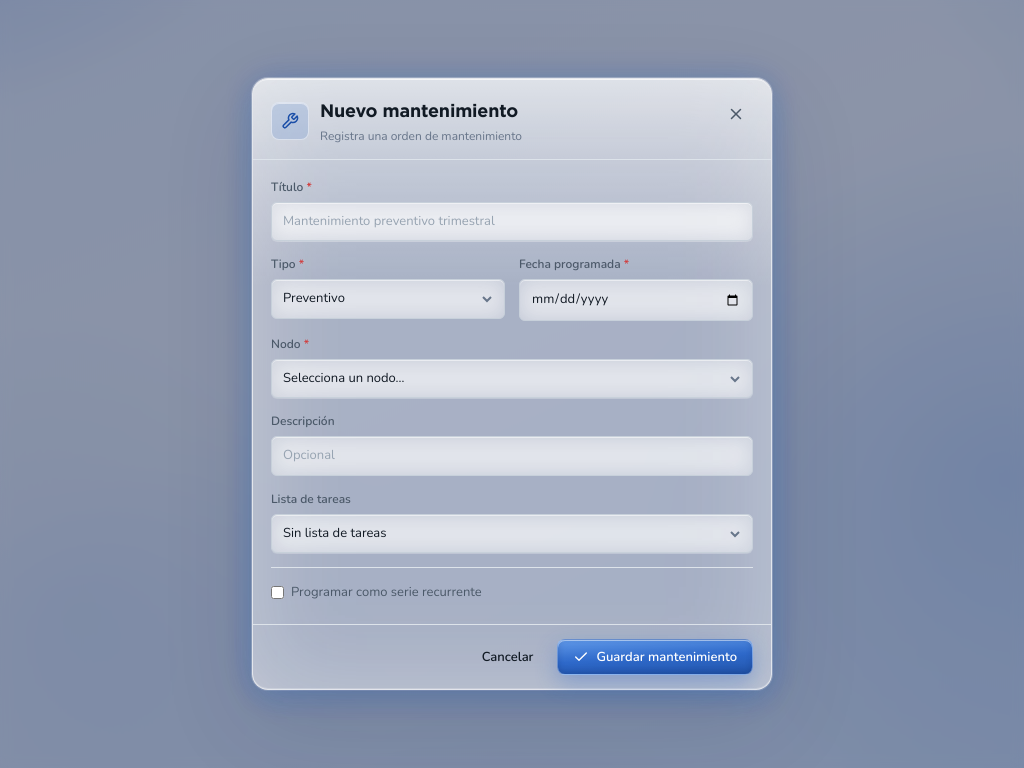
MaintenanceFormModal › CORRECTIVE con nodo pero sin equipo: muestra error solo de Equipo
The image size is (1024, 768).
Expected: the field with placeholder "Mantenimiento preventivo trimestral" is shown, [271,202,753,241]
Select "Correctivo" in the dropdown showing "Preventivo" at (388, 299), box [271,279,505,319]
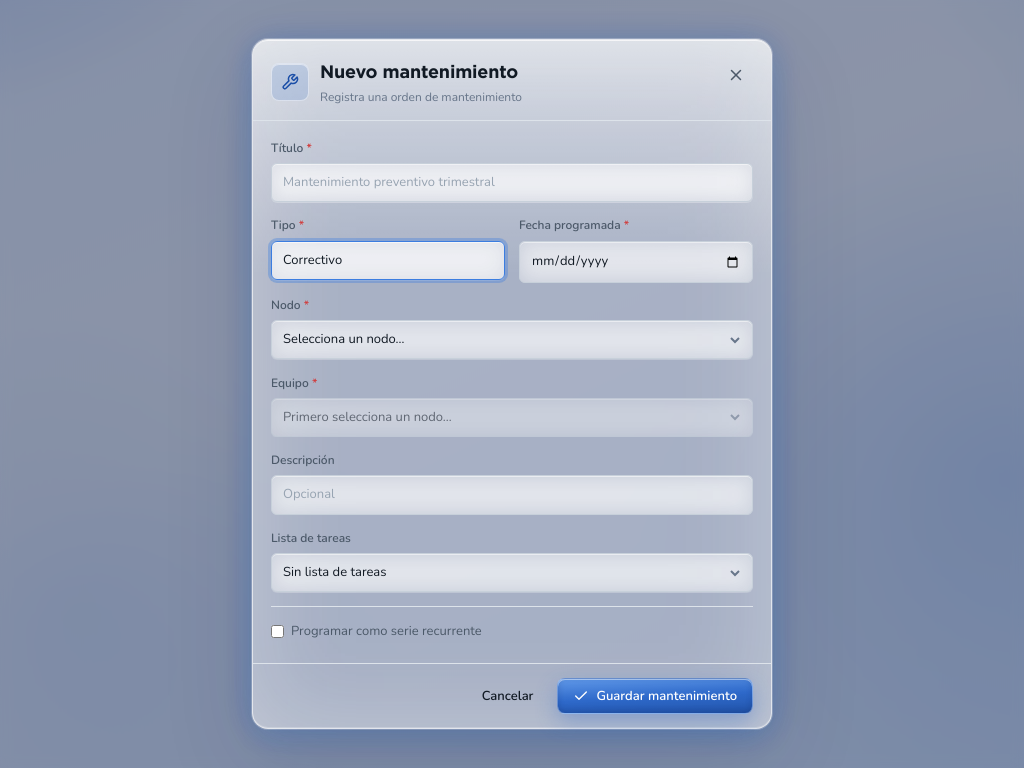
Select "Nodo Ficticio Disponible (NODO-F01)" in the dropdown showing "Selecciona un nodo…" at (512, 340), box [271,320,753,360]
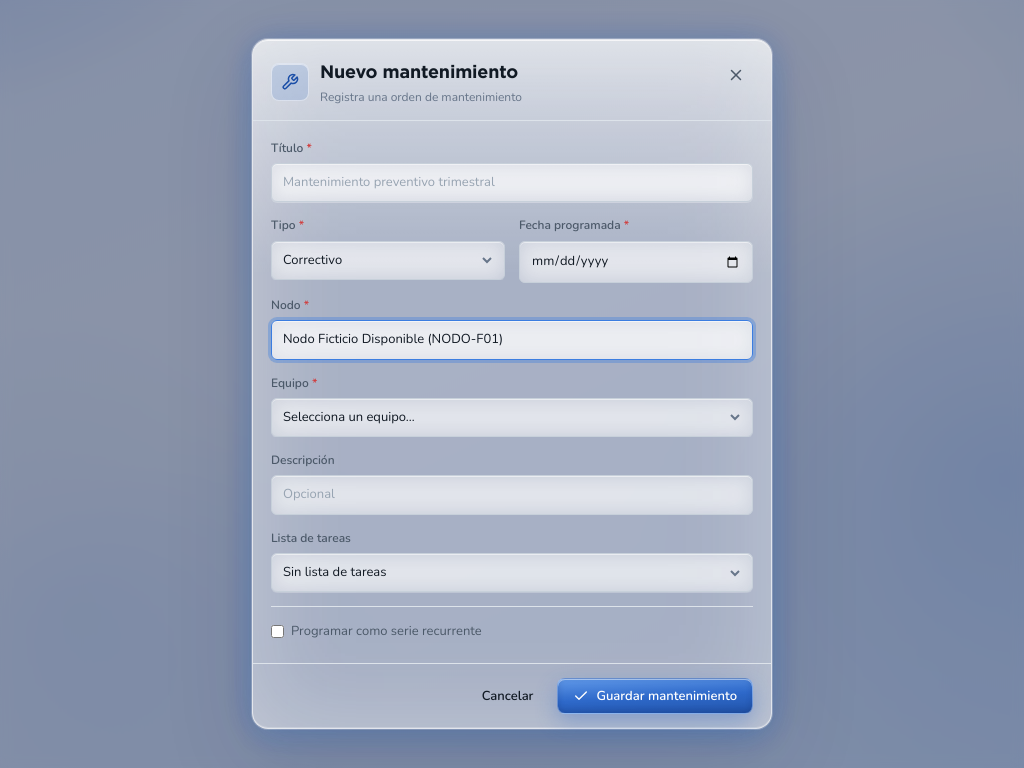
Type "Correctivo sin equipo" into the field with placeholder "Mantenimiento preventivo trimestral" at (512, 183), box [271,163,753,202]
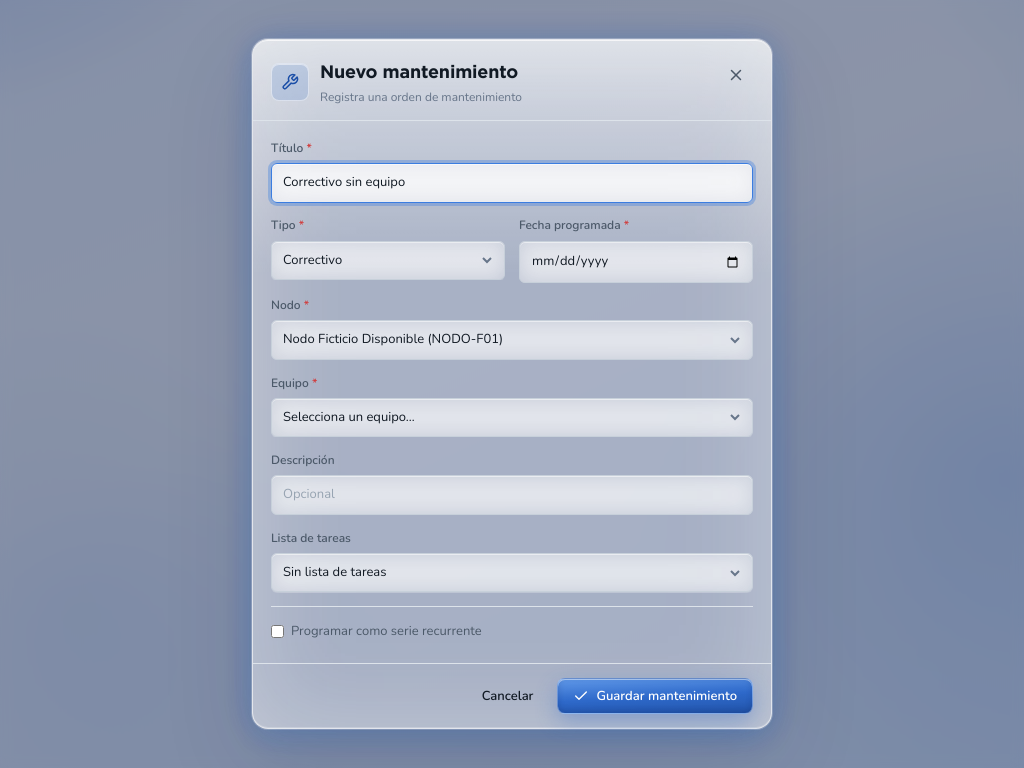
Type "2026-06-01" into the date field labelled "Fecha programada *" at (636, 261), box [519,240,753,282]
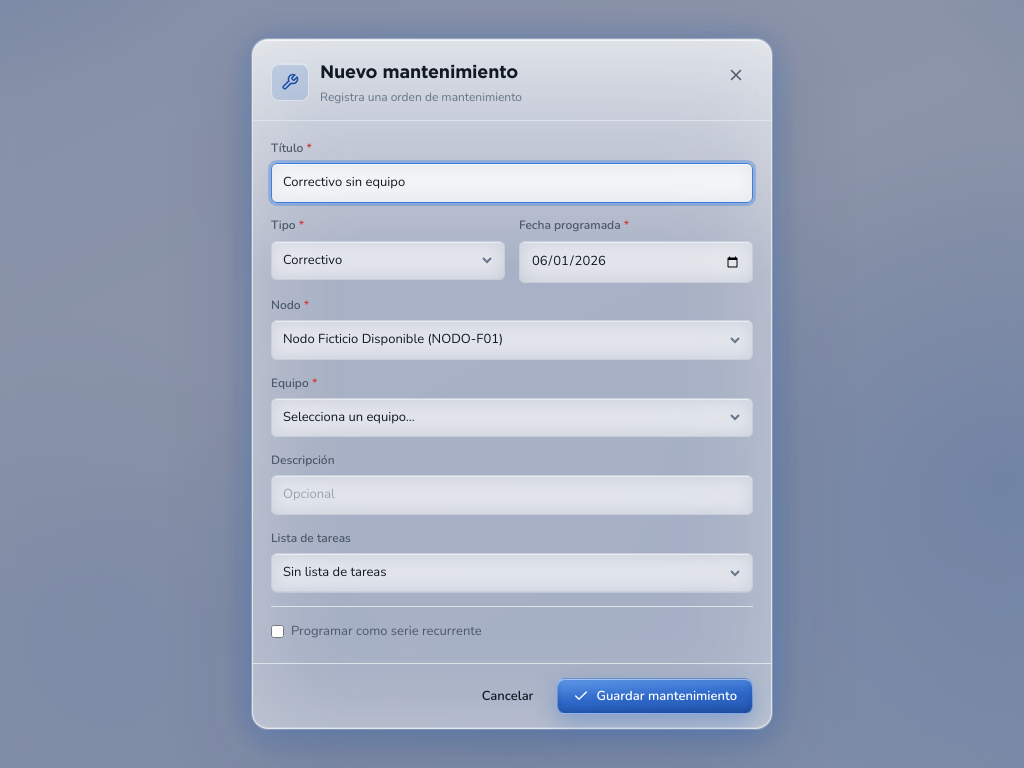
Click the button "Guardar mantenimiento" at (655, 696), box [558,678,753,714]
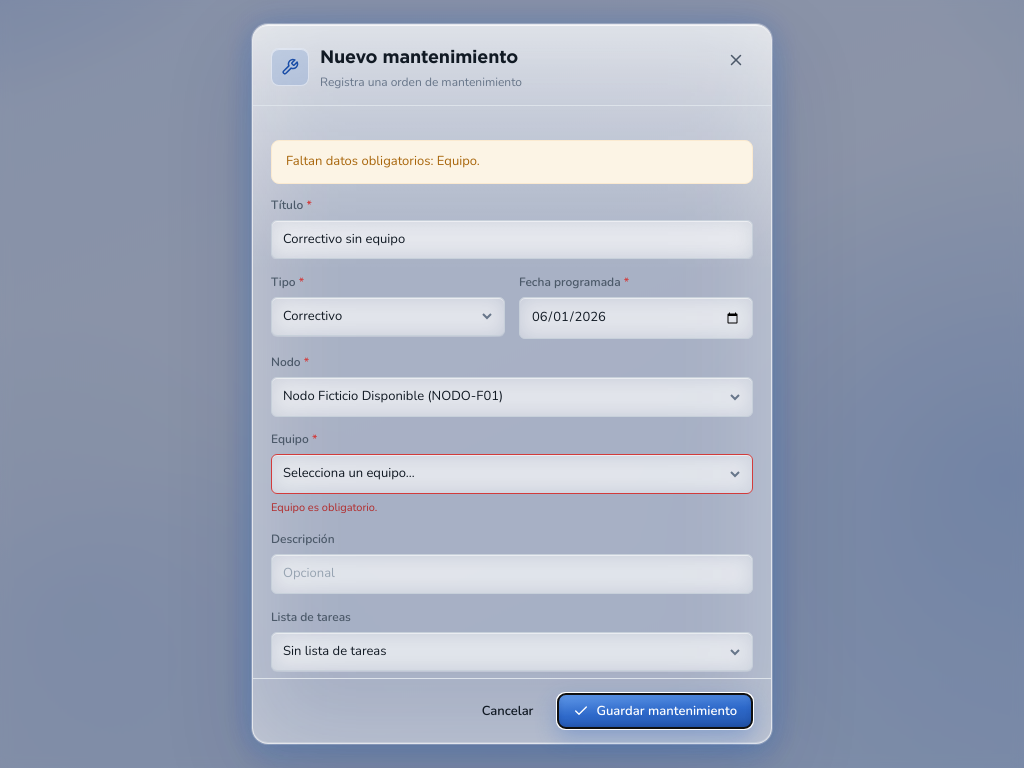
Expected: the text "Faltan datos obligatorios: Equipo." is shown, [286,152,480,172]
